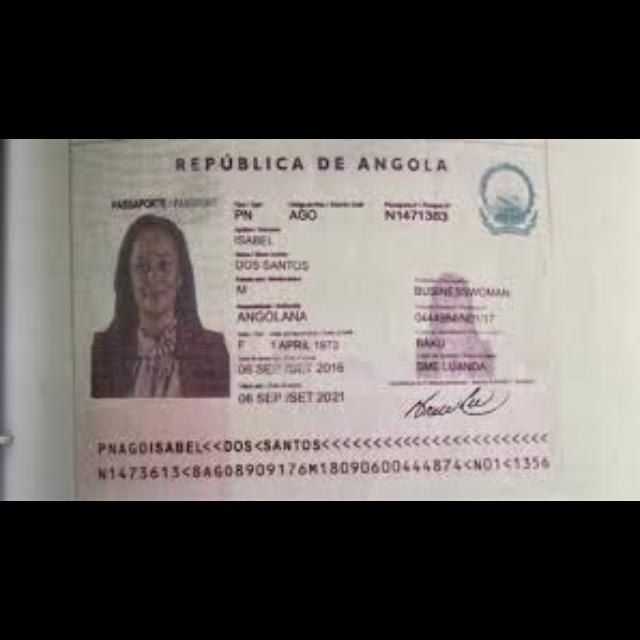passport: (63, 140, 565, 498)
